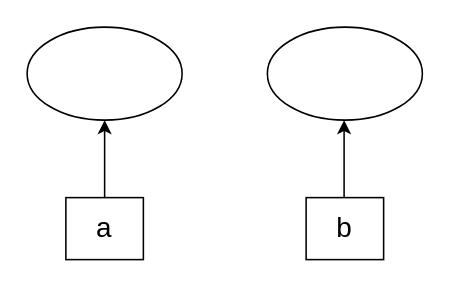
The diagram is 450 pixels wide and 287 high, and some of its shapes have lost their labels. Each missing label, with the centre of its shape:
"a-value" goes at point (104, 73).
"b-value" goes at point (344, 73).
